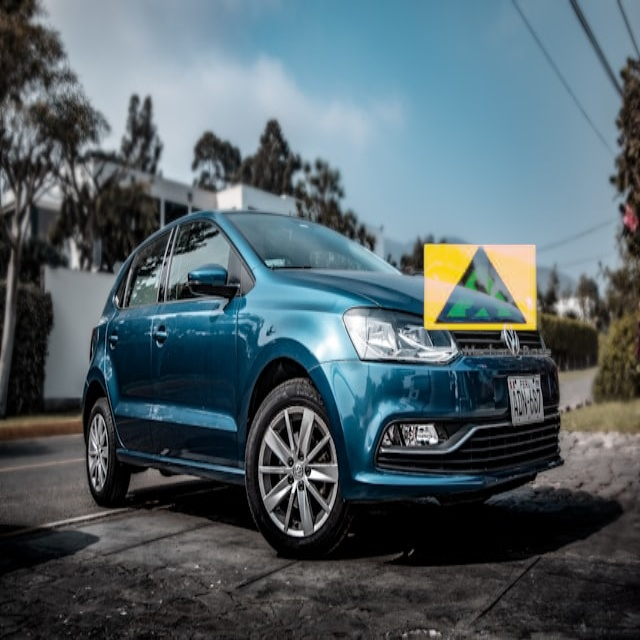symbol: (404, 211, 557, 364)
